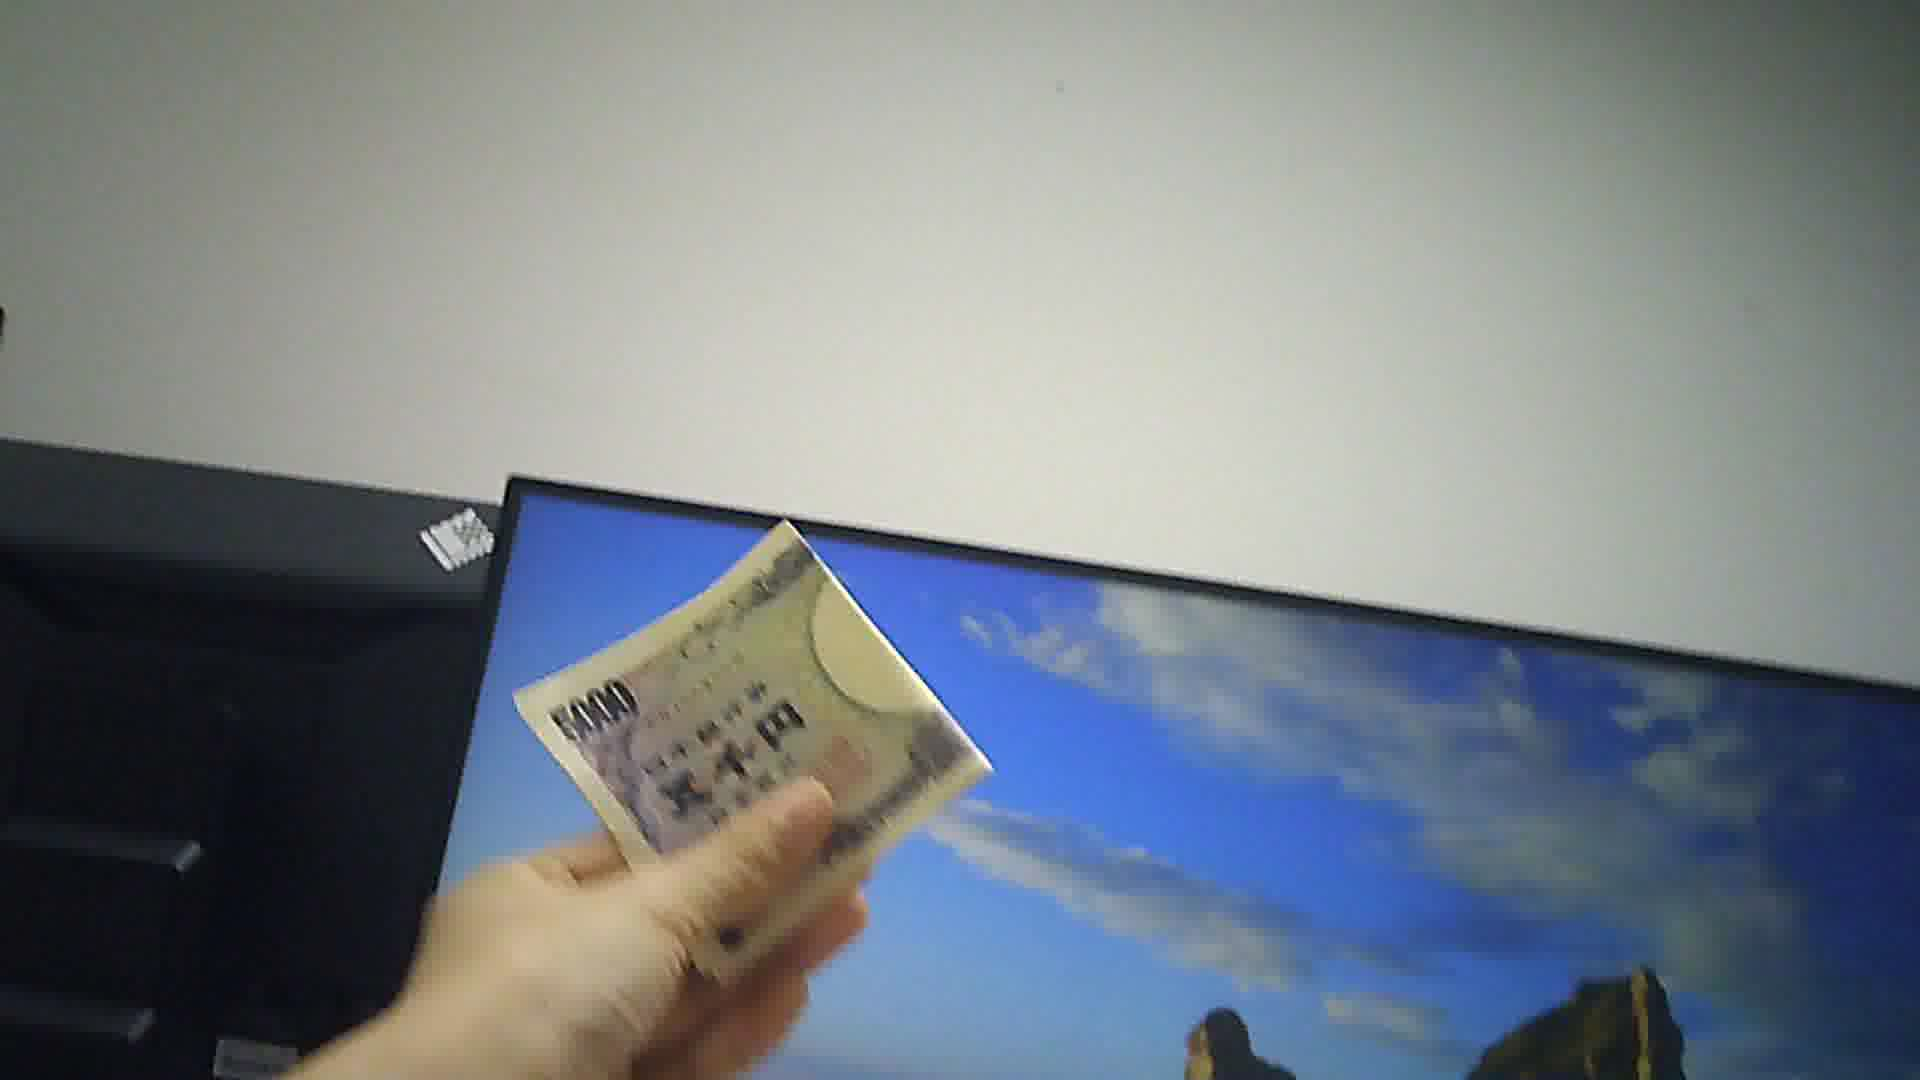5,000 Yen: (498, 506, 1000, 959)
